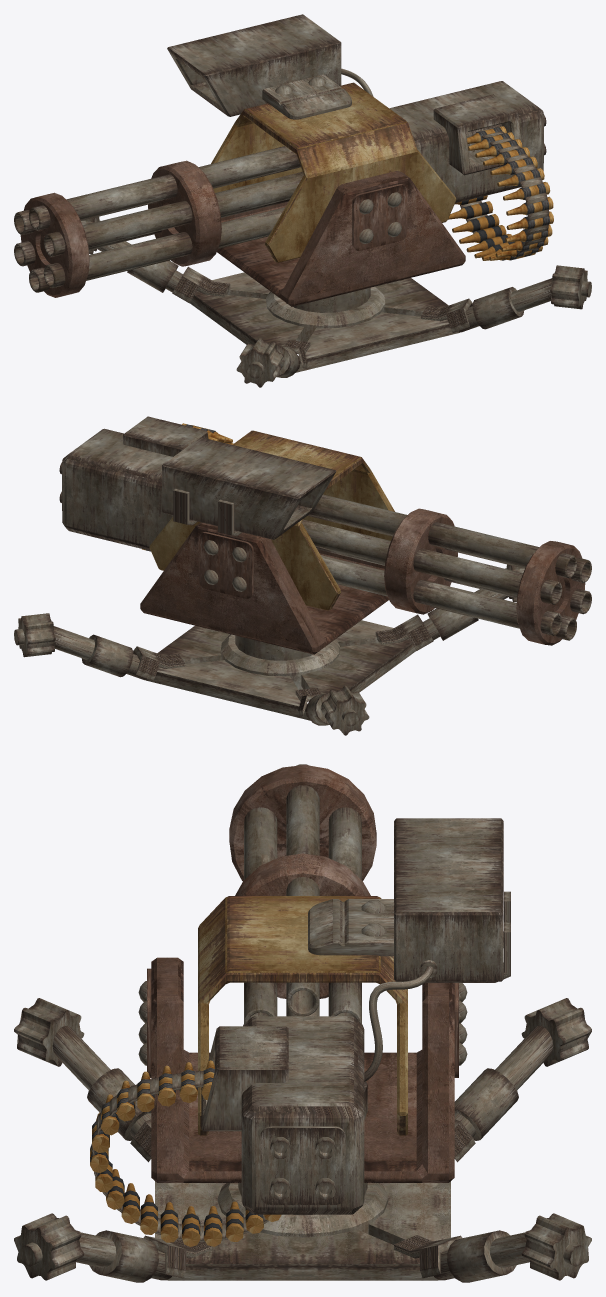
The model's file is static2.fbx.
The picture shows the model from 3 angles, top to bottom: view 1: azimuth 30°, elevation 25°; view 2: azimuth 150°, elevation 25°; view 3: azimuth 270°, elevation 25°; orthographic projection. The views are drawn at different scales.
Visible parts, largest first — view 1: Cube_30, Cube_32, Boole_2, Cube_27, Cube, Tube, Tube_12, Tube_10, Cylinder_1_2, Cylinder_1_3, Boole, Extrude_2 (+13 smaller); view 2: Cube_32, Boole_2, Cube_27, Cube, Cube_30, Tube, Tube_4, Tube_6, Cylinder_1_2, Cylinder_1_3, Extrude_2, Cylinder_25 (+12 smaller); view 3: Cube_32, Boole_2, Cube_27, Cube, Cube_30, Extrude_2, Cylinder_25, Cylinder_1_5, Cylinder_1_3, Boole, Extrude, Extrude_cuts (+9 smaller).
Part boxes in pixels (x1,y1,x2,y2): Cube_30: (211, 82, 456, 262); Cube_32: (217, 170, 465, 306); Boole_2: (167, 14, 341, 116); Cube_27: (190, 272, 460, 372); Cube: (389, 81, 543, 203); Tube: (29, 146, 300, 230); Tube_12: (43, 171, 303, 256); Tube_10: (43, 207, 285, 288); Cylinder_1_2: (148, 160, 221, 266); Cylinder_1_3: (20, 192, 89, 297); Boole: (433, 94, 521, 175); Extrude_2: (81, 216, 587, 387); Cube_32: (140, 522, 388, 654); Boole_2: (162, 437, 336, 539); Cube_27: (145, 620, 415, 720); Cube: (62, 428, 173, 550); Cube_30: (149, 430, 394, 610); Tube: (309, 494, 576, 578); Tube_4: (302, 519, 562, 604); Tube_6: (320, 555, 562, 635); Cylinder_1_2: (384, 508, 457, 614); Cylinder_1_3: (516, 541, 585, 645); Extrude_2: (18, 564, 524, 735); Cylinder_25: (81, 608, 478, 725); Cube_32: (151, 957, 454, 1182); Boole_2: (394, 818, 503, 981); Cube_27: (155, 1181, 450, 1280); Cube: (241, 1016, 364, 1214); Cube_30: (198, 896, 407, 1135); Extrude_2: (14, 998, 591, 1280); Cylinder_25: (87, 1068, 518, 1282); Cylinder_1_5: (52, 1026, 553, 1280); Cylinder_1_3: (229, 765, 376, 881); Boole: (201, 1026, 288, 1131); Extrude: (260, 1126, 345, 1204); Extrude_cuts: (308, 899, 393, 956).
Bounding box in the file's own units: 334 × 162 × 235.
Materials: 5 (5 with a texture image).
